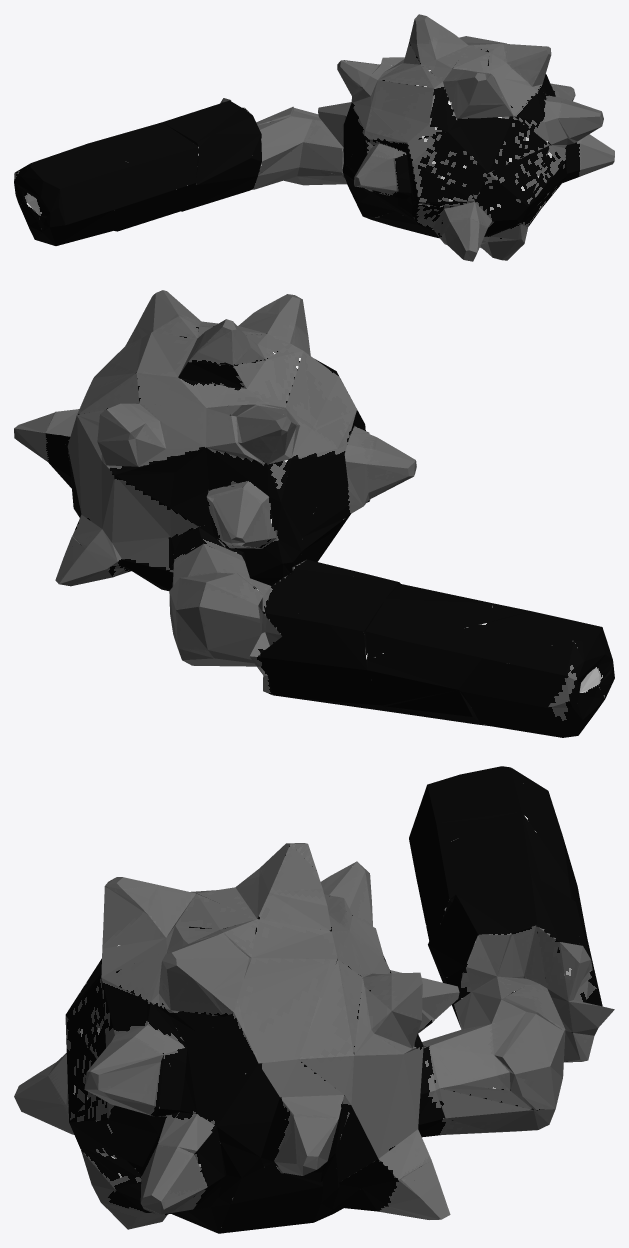
3 views of the same model, one above another, from view 1: azimuth 30°, elevation 25°; view 2: azimuth 150°, elevation 25°; view 3: azimuth 270°, elevation 25° (orthographic). The views are drawn at different scales.
Visible parts, largest first — view 1: OBJ0ca; view 2: OBJ0ca; view 3: OBJ0ca.
Part boxes in pixels (<box>): OBJ0ca: <box>14,14,614,261</box>; OBJ0ca: <box>14,290,614,737</box>; OBJ0ca: <box>14,766,614,1233</box>.
Bounding box in the file's own units: 0.3249 × 0.1367 × 0.2067.
1 material, 1 textured.
